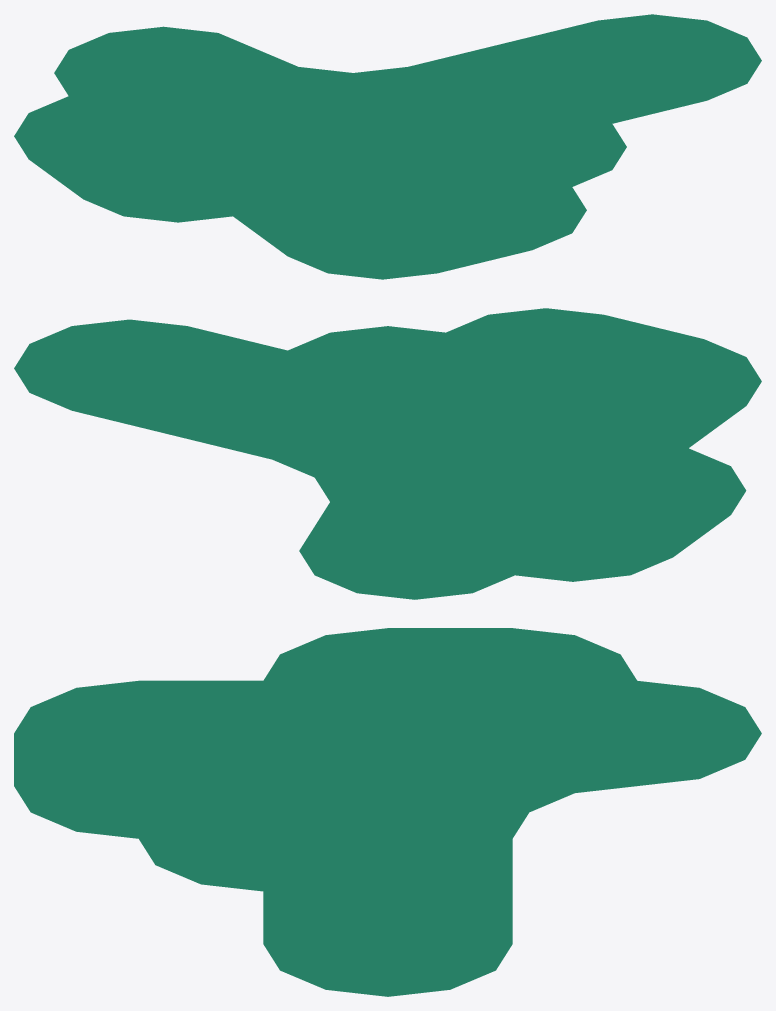
File: kenney-survival-patch-grass-large.glb
3 views of the same model, one above another, from view 1: azimuth 30°, elevation 25°; view 2: azimuth 150°, elevation 25°; view 3: azimuth 270°, elevation 25° (orthographic). The views are drawn at different scales.
Parts seen in each view (by area): view 1: patch-grass-large; view 2: patch-grass-large; view 3: patch-grass-large.
Boxes of the visible parts, x1=… form: patch-grass-large: x1=14, y1=14, x2=761, y2=279; patch-grass-large: x1=14, y1=308, x2=761, y2=599; patch-grass-large: x1=14, y1=628, x2=761, y2=996.
Bounding box in the file's own units: 1.4 × 0 × 1.2.
1 material, 1 textured.
